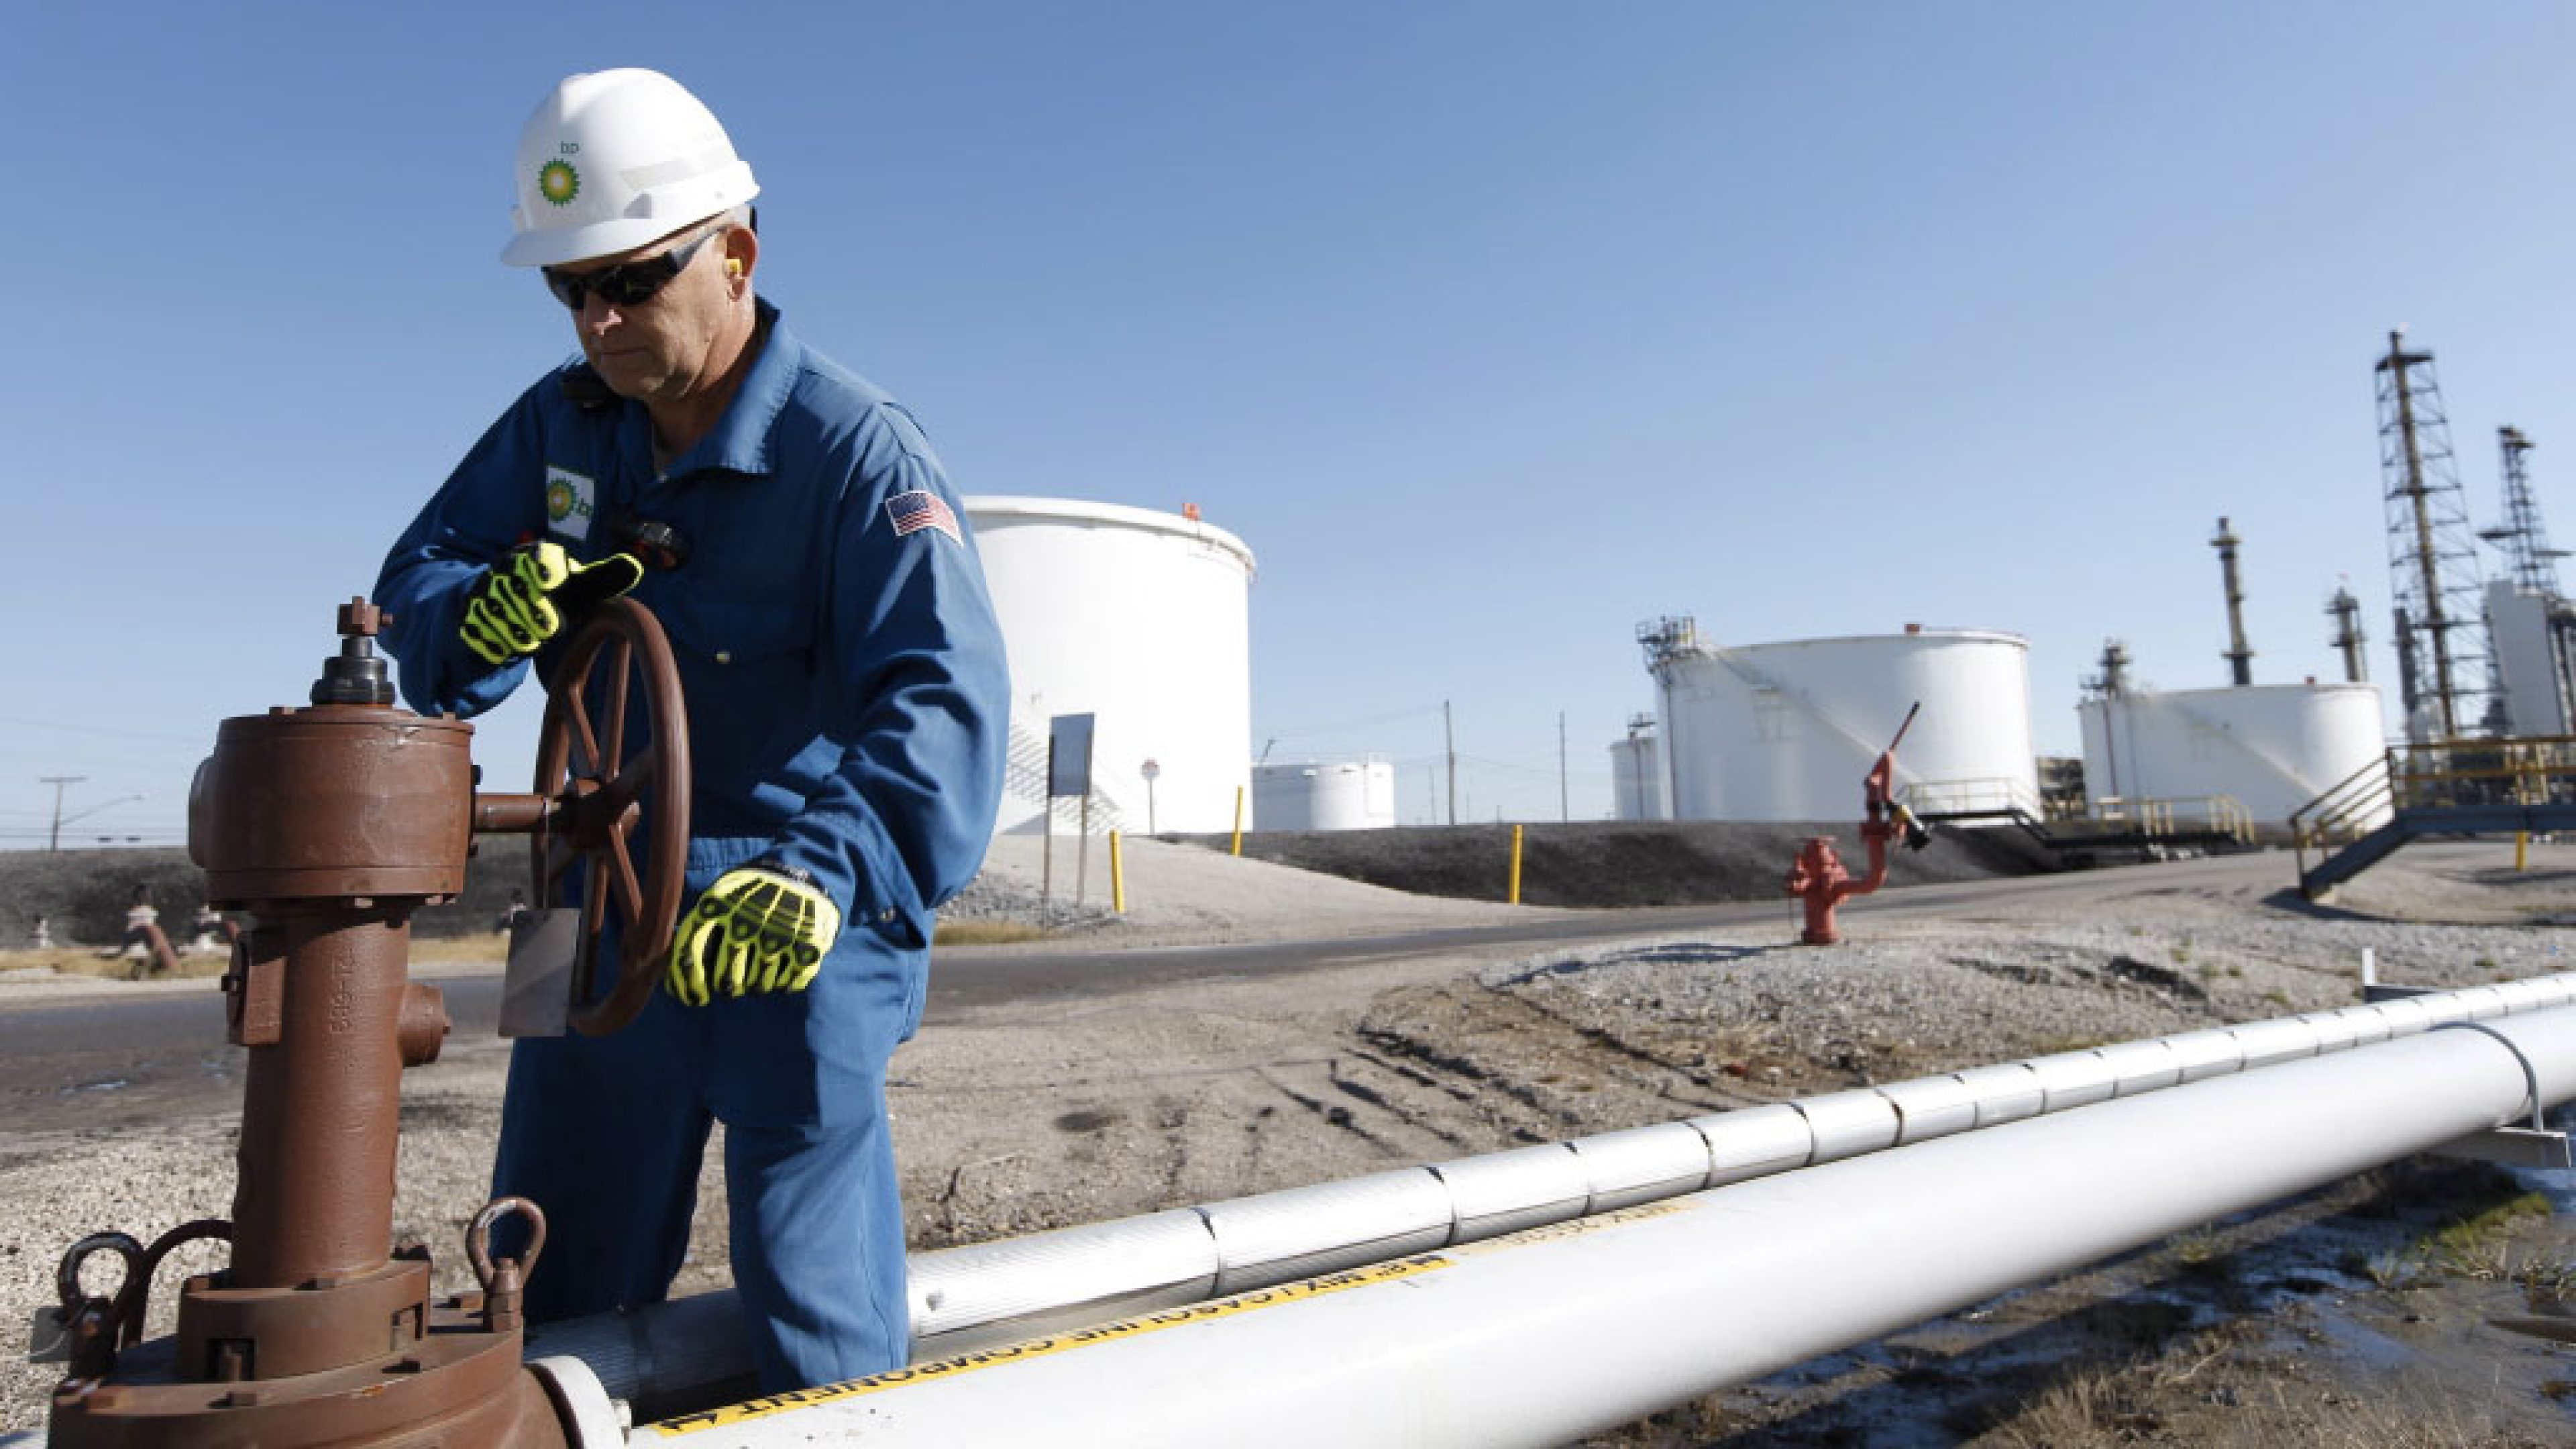epi: (375, 60, 1014, 1408)
